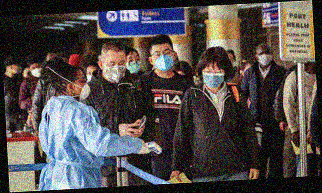with_mask: (152, 47, 176, 73), (103, 59, 127, 83), (202, 66, 226, 90), (73, 75, 91, 100), (126, 54, 142, 74), (258, 50, 273, 66), (30, 64, 43, 78)
